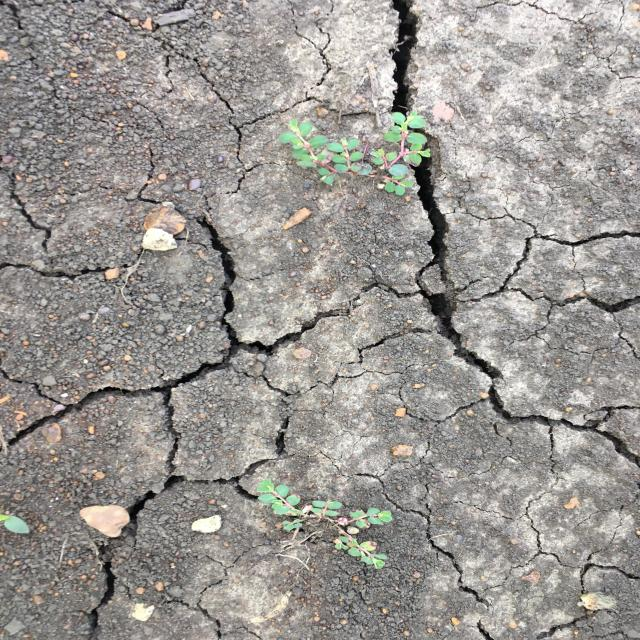SpottedSpurge: (276, 106, 436, 199), (254, 474, 397, 573)
